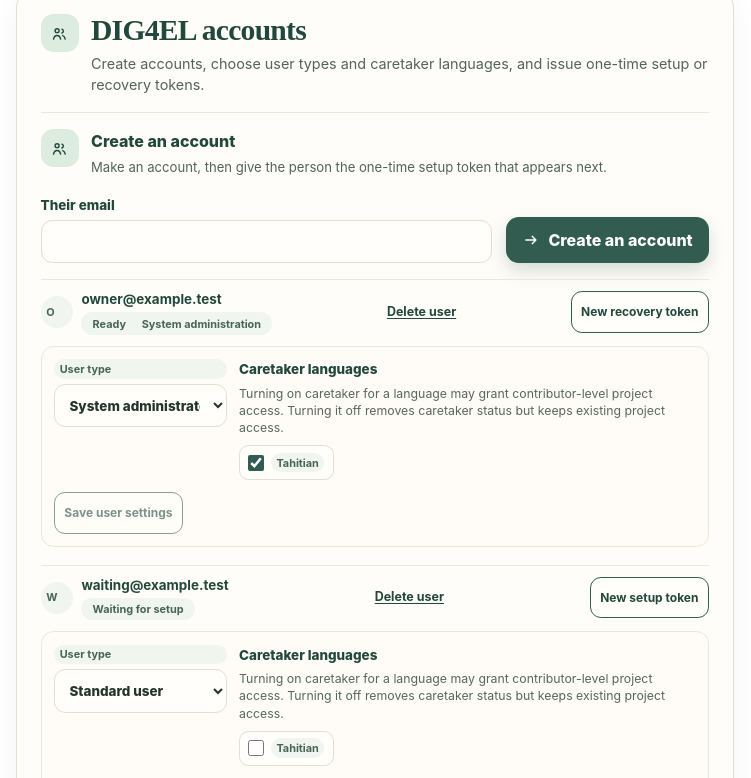
Test: AdminAccessScreen › explains why the final system administrator cannot be demoted
(page scrolled)
Expected: the list item "owner@example.test" is shown, 81,291 -> 222,307
Select "Standard user" in the dropdown labelled "User type" below "Ready": (141, 406) 54,384 -> 227,427
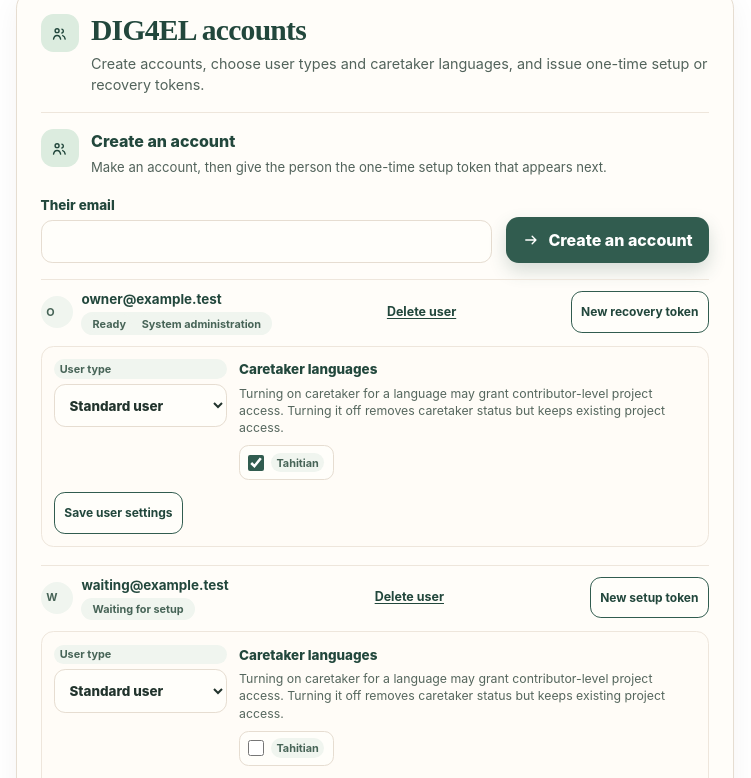
Click the button "Save user settings" below "Ready": (118, 513) 54,492 -> 183,534
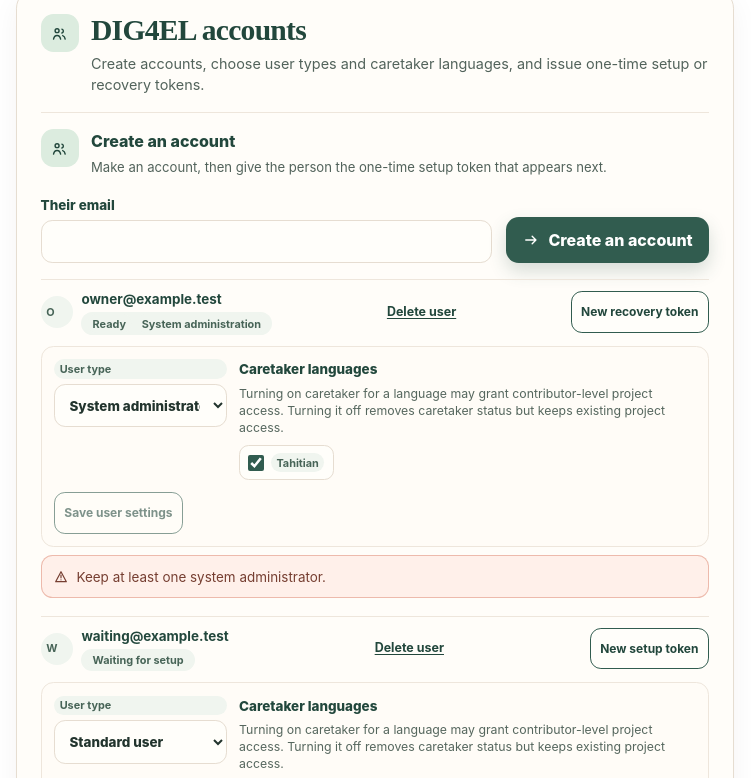
Expected: the message reads "Keep at least one system administrator.", 76,569 -> 326,585
